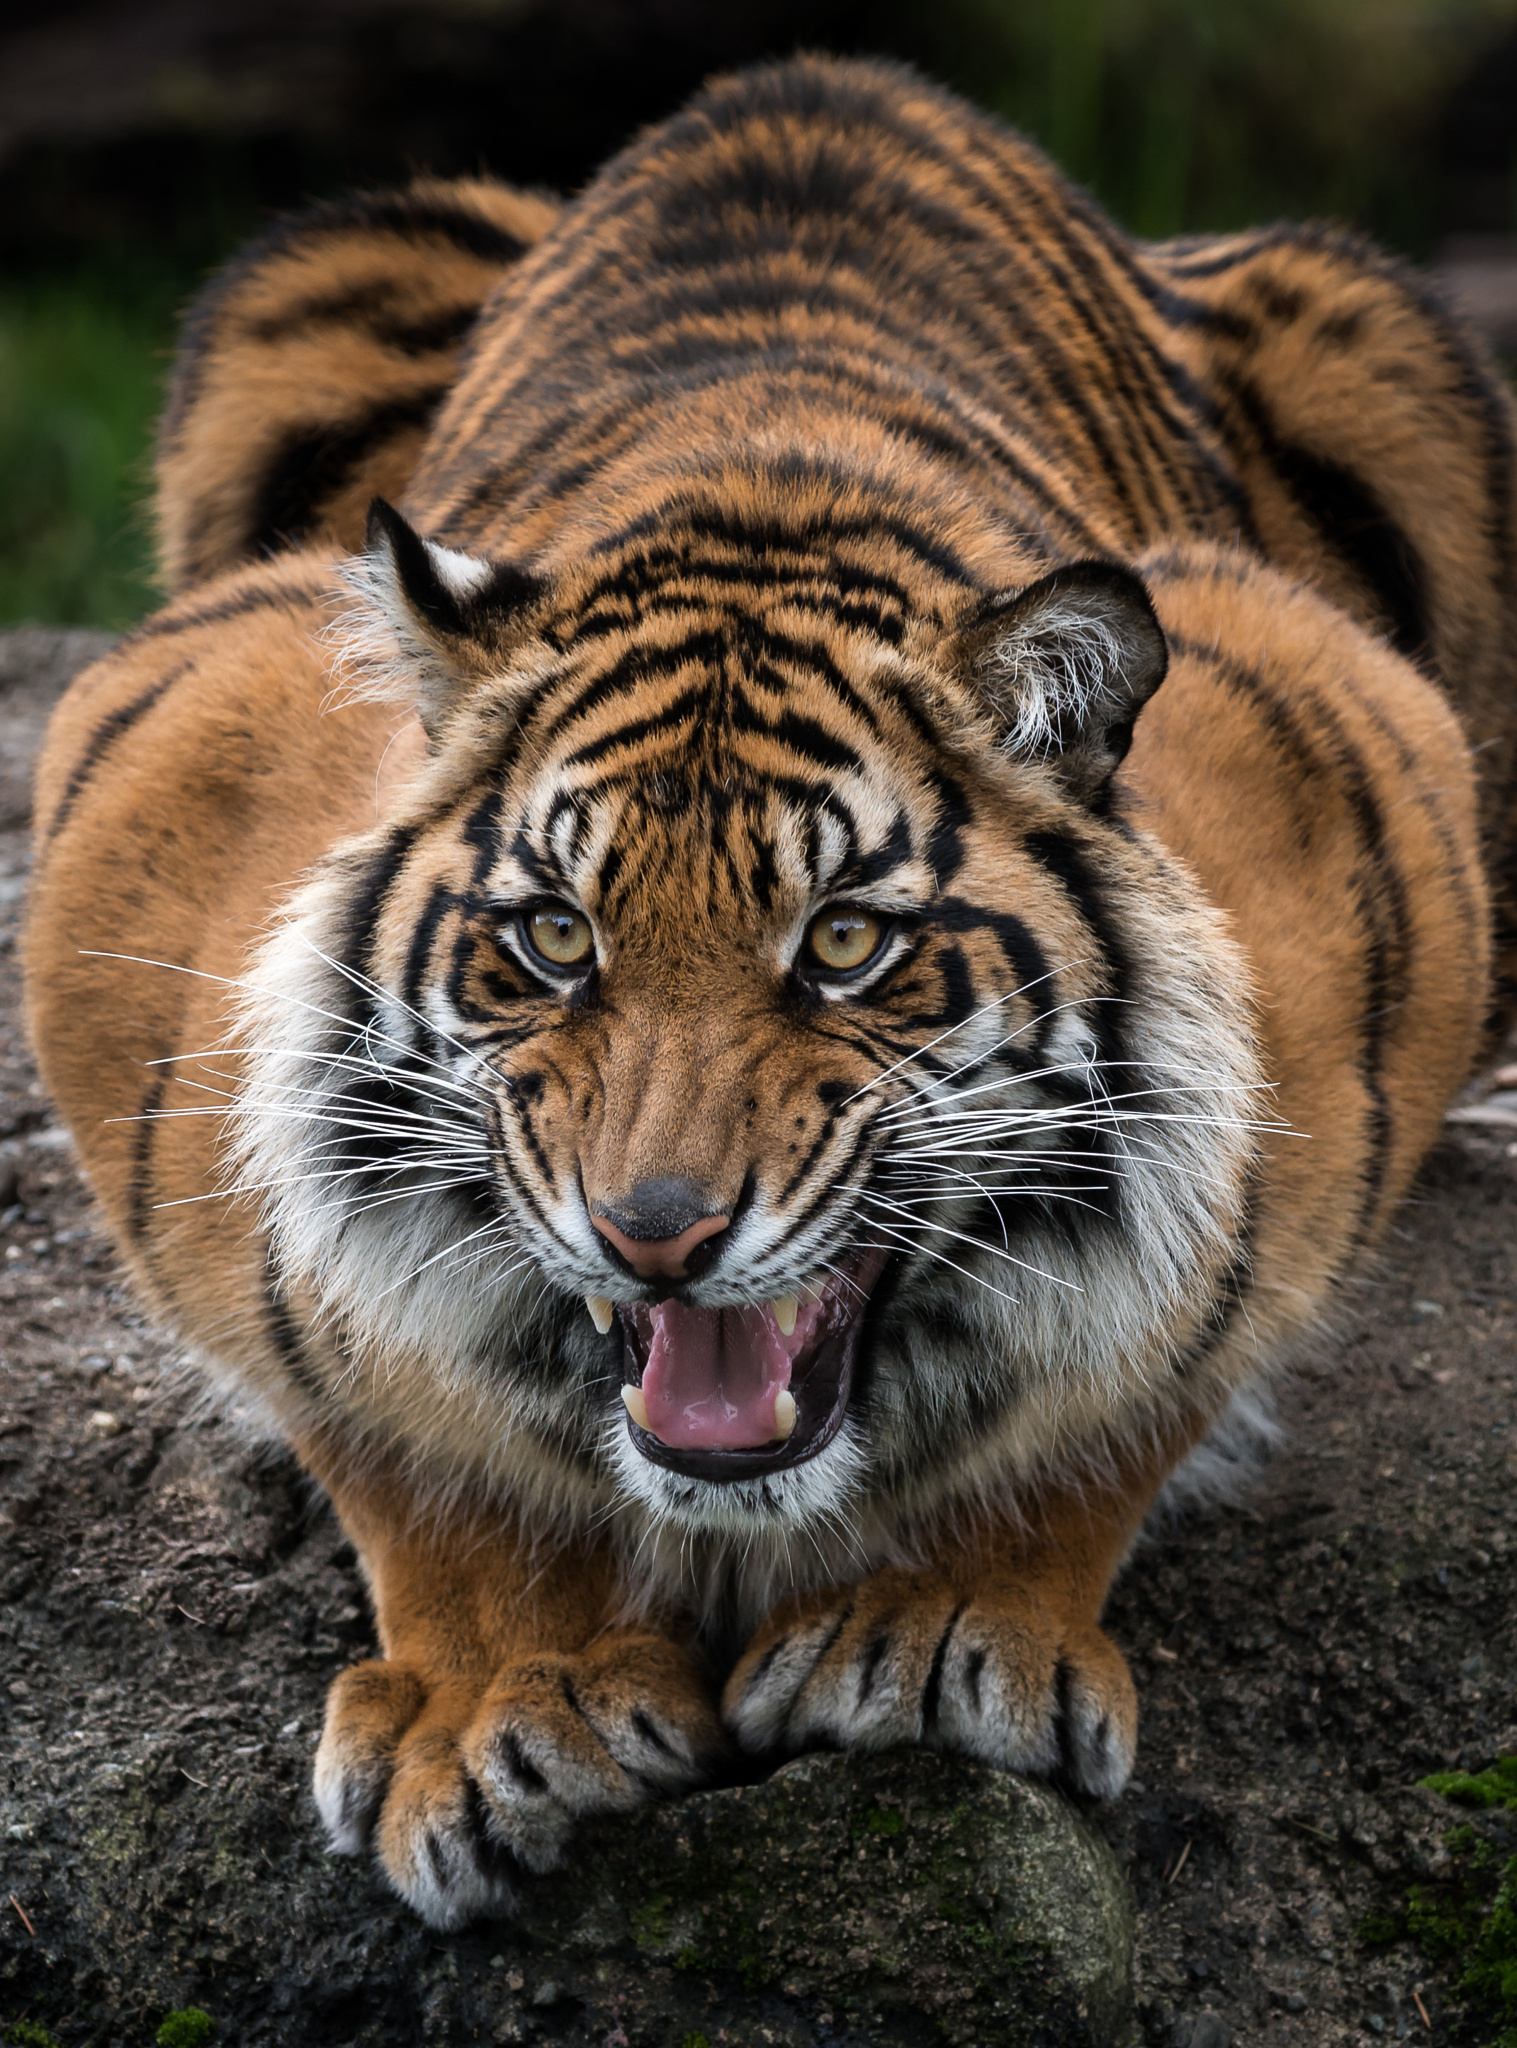tiger: (121, 115, 1415, 1865)
